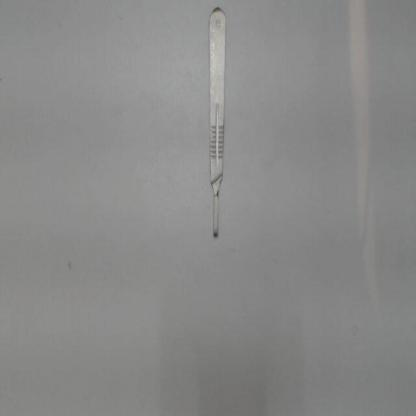No.4 BP Handle: (202, 7, 231, 250)
